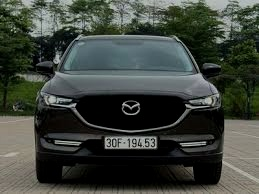Bien-so: (112, 135, 169, 153)
